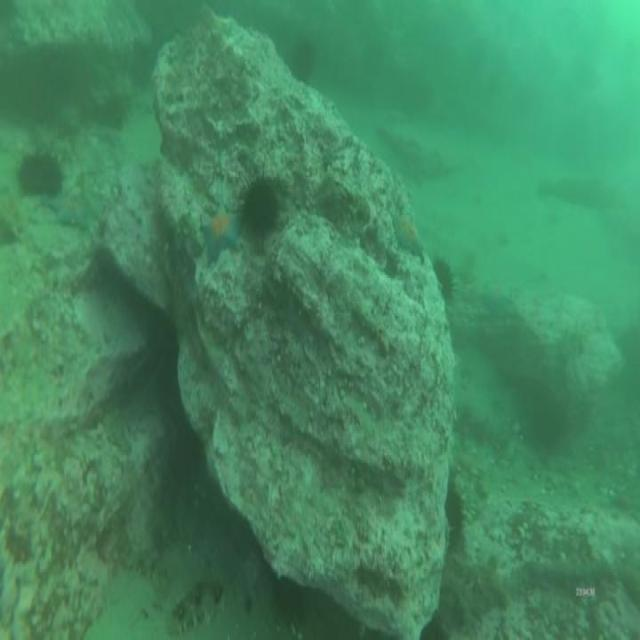echinus: (17, 152, 63, 198), (242, 182, 279, 235), (444, 491, 466, 542), (287, 41, 313, 82), (433, 256, 452, 294)
holothurian: (169, 572, 229, 631)
starfish: (522, 381, 560, 450), (199, 202, 243, 259), (392, 208, 427, 258), (50, 190, 89, 222)
